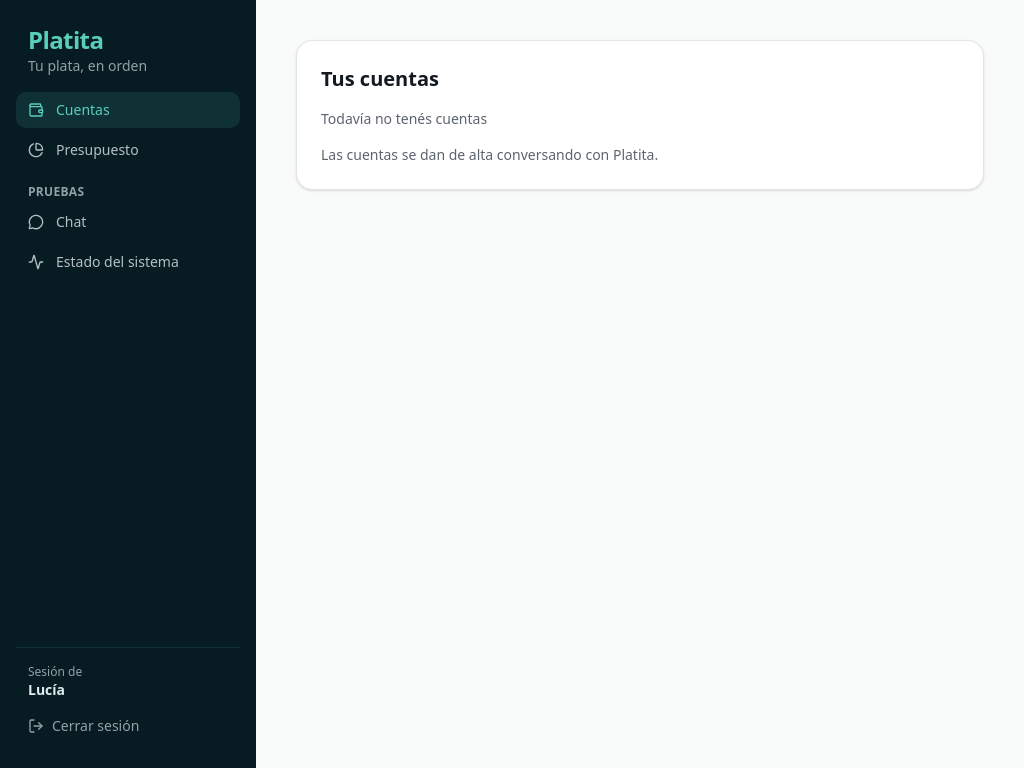
it: case C1-12: the conversation of Lucía, each message on its side and with its time
Click the button "Chat" at (128, 222), box [16,204,240,240]
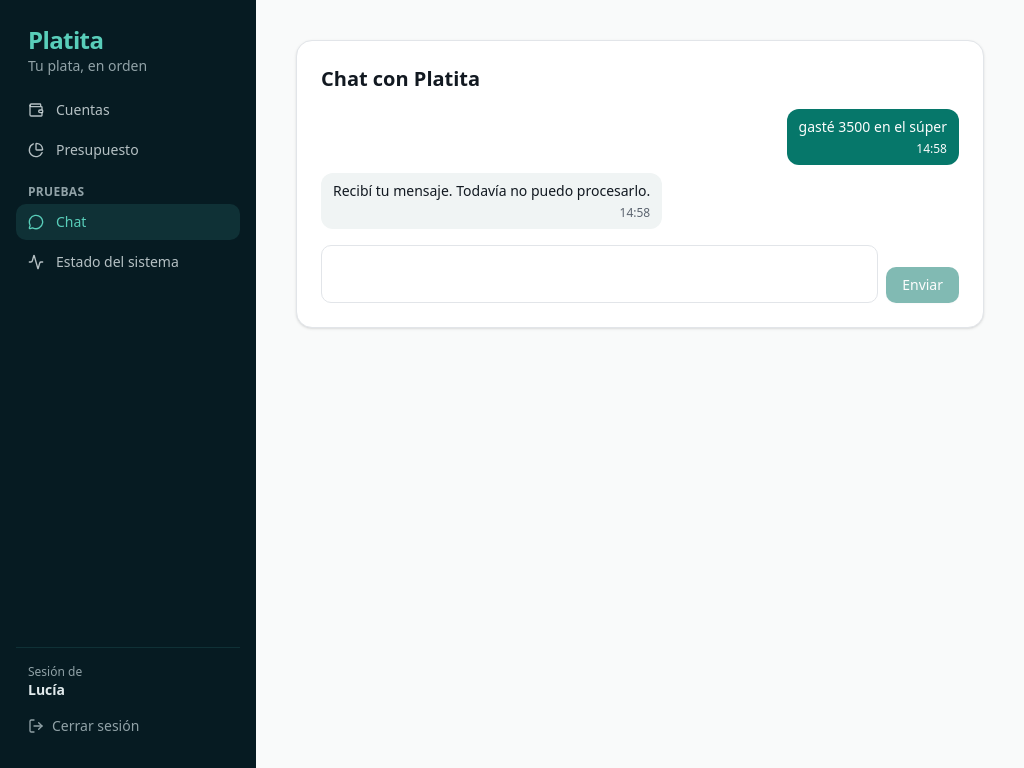
Expected: the text "gasté 3500 en el súper" is shown, [799,117,947,137]
